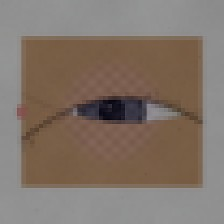pinguecula_lesion: (161, 92, 205, 126)
